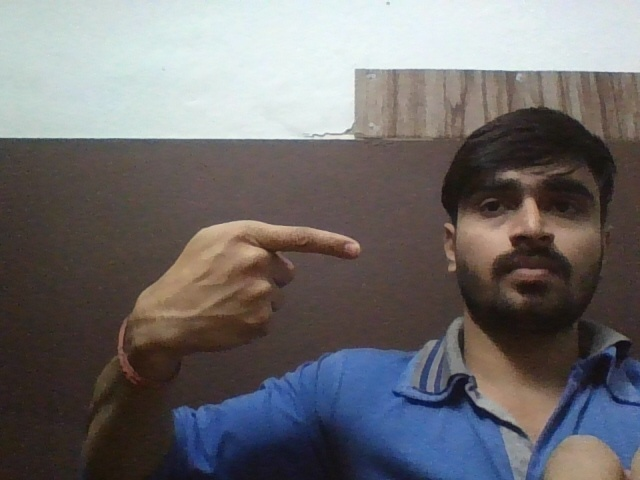G: (167, 217, 371, 345)
